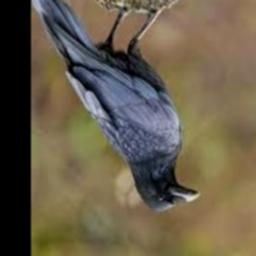Crow: (31, 0, 200, 213)
